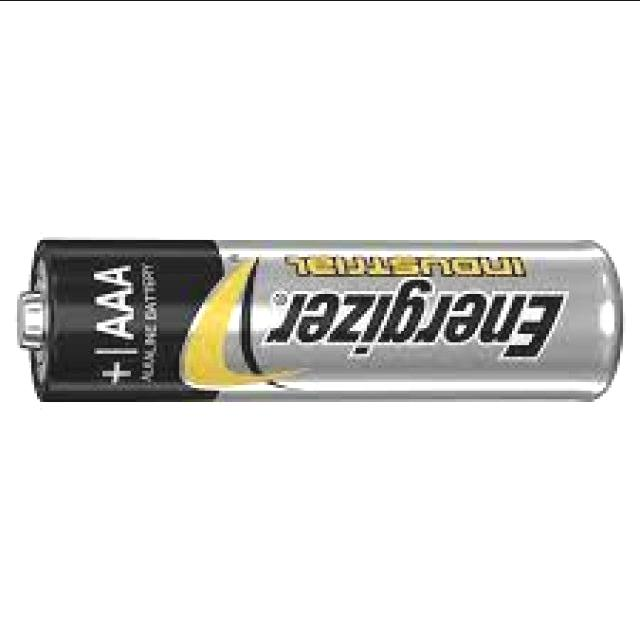AAA: (13, 232, 628, 404)
